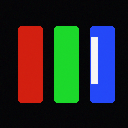4 line_v: (91, 37, 97, 83)
